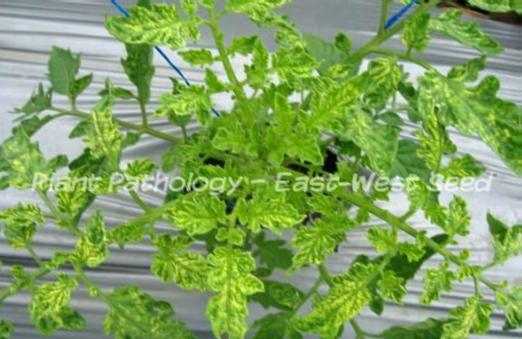Tomato leaf yellow virus: (436, 66, 522, 184), (275, 72, 375, 157), (282, 272, 387, 339), (103, 279, 209, 339), (108, 0, 205, 57), (206, 243, 258, 339), (291, 196, 357, 271), (420, 10, 508, 57), (0, 119, 57, 191), (78, 109, 134, 176), (347, 98, 397, 166), (148, 242, 214, 293), (473, 208, 522, 273), (430, 291, 491, 339), (1, 194, 47, 255), (33, 282, 86, 334), (168, 194, 230, 235), (244, 193, 305, 234), (219, 0, 332, 22), (75, 208, 113, 269), (157, 83, 212, 123), (439, 197, 477, 245)
